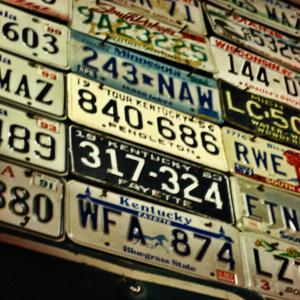Vehicle-registration-plate: (1, 2, 300, 300), (63, 180, 255, 281)
